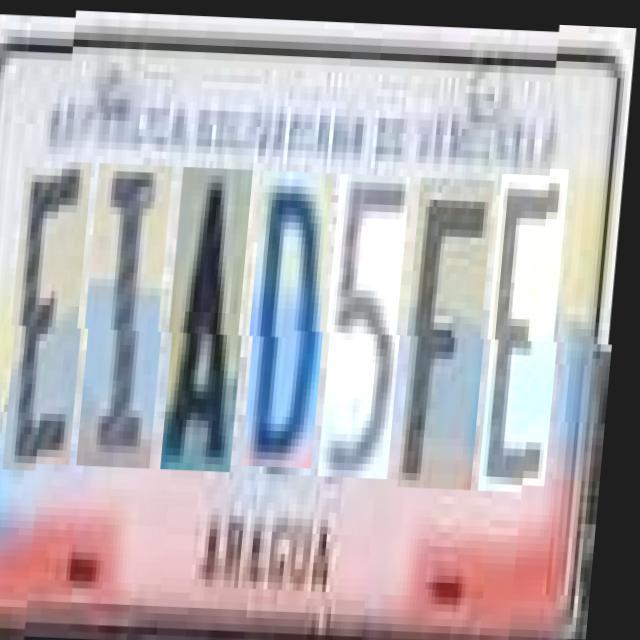5: (326, 170, 417, 474)
A: (169, 165, 260, 469)
D: (250, 168, 340, 465)
E: (486, 169, 574, 488), (12, 160, 99, 463)
F: (406, 174, 501, 486)
I: (85, 162, 179, 467)
